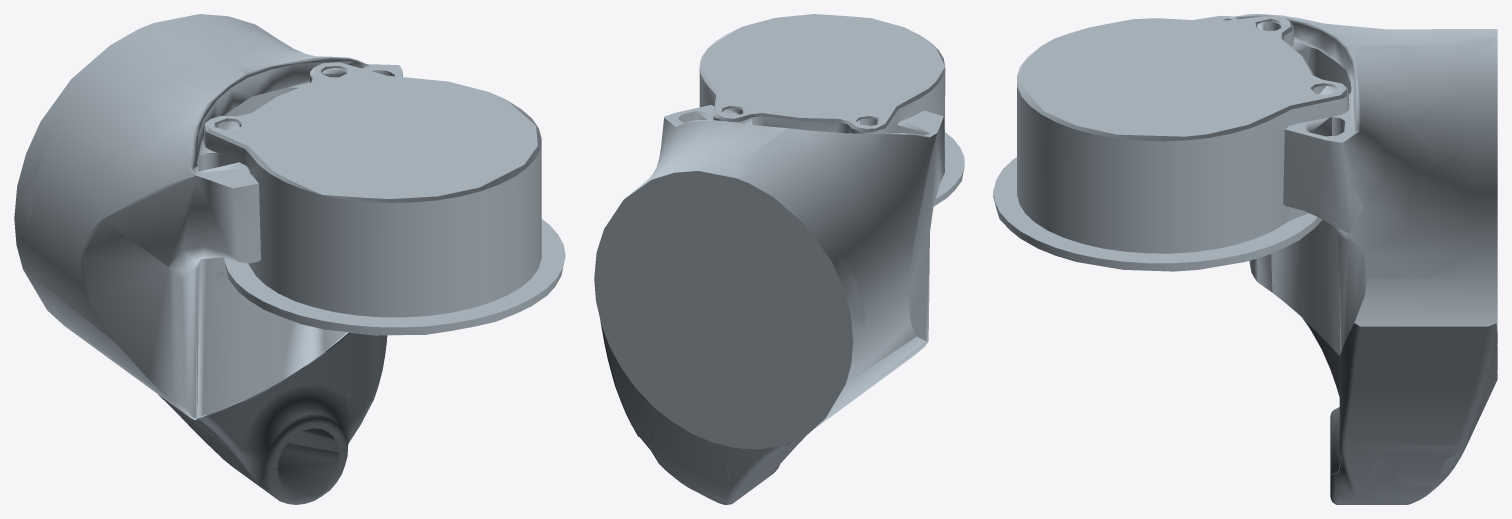
Rendered from RightElbowPitchLink.obj.
The picture shows the model from 3 angles, left to right: view 1: azimuth 30°, elevation 25°; view 2: azimuth 150°, elevation 25°; view 3: azimuth 270°, elevation 25°; orthographic projection. The views are drawn at different scales.
Visible parts, largest first — view 1: N17_24_P01_01_L_Elbow_Bend_Structure, N17_25_P11_01_Elbow_To_Forearm, N17_24_P01_03_L_Forearm_wire_inlet, N17_24_P01_04_L_Forearm_wire_inlet_cover; view 2: N17_24_P01_01_L_Elbow_Bend_Structure, N17_25_P11_01_Elbow_To_Forearm, N17_24_P01_03_L_Forearm_wire_inlet, N17_24_P01_04_L_Forearm_wire_inlet_cover; view 3: N17_25_P11_01_Elbow_To_Forearm, N17_24_P01_01_L_Elbow_Bend_Structure, N17_24_P01_03_L_Forearm_wire_inlet, N17_24_P01_04_L_Forearm_wire_inlet_cover.
Boxes of the visible parts, bbox=[...] form: N17_24_P01_01_L_Elbow_Bend_Structure: bbox=[14, 14, 402, 419]; N17_25_P11_01_Elbow_To_Forearm: bbox=[203, 62, 565, 335]; N17_24_P01_03_L_Forearm_wire_inlet: bbox=[193, 332, 387, 469]; N17_24_P01_04_L_Forearm_wire_inlet_cover: bbox=[158, 351, 376, 504]; N17_24_P01_01_L_Elbow_Bend_Structure: bbox=[594, 104, 944, 449]; N17_25_P11_01_Elbow_To_Forearm: bbox=[699, 14, 964, 206]; N17_24_P01_03_L_Forearm_wire_inlet: bbox=[600, 321, 807, 487]; N17_24_P01_04_L_Forearm_wire_inlet_cover: bbox=[632, 408, 809, 504]; N17_25_P11_01_Elbow_To_Forearm: bbox=[993, 16, 1349, 271]; N17_24_P01_01_L_Elbow_Bend_Structure: bbox=[1194, 14, 1497, 372]; N17_24_P01_03_L_Forearm_wire_inlet: bbox=[1302, 318, 1497, 474]; N17_24_P01_04_L_Forearm_wire_inlet_cover: bbox=[1330, 387, 1472, 504].
Size of the model in its own units: 0.0999 by 0.1175 by 0.1249.
